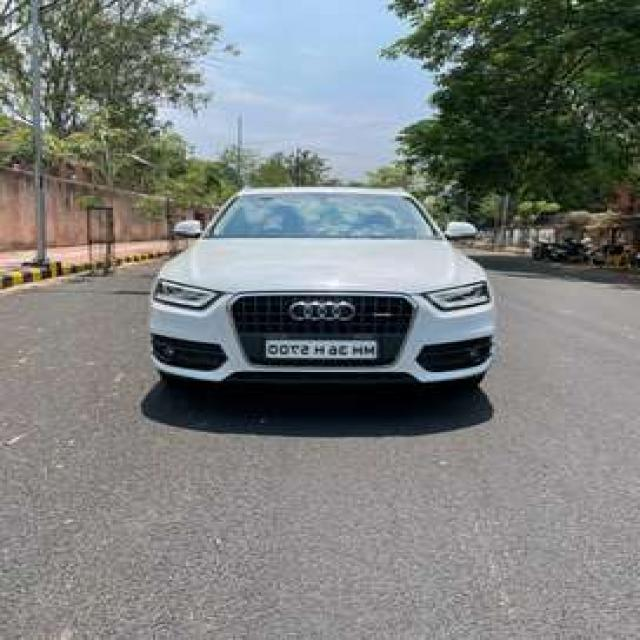license_plate: (261, 336, 382, 362)
